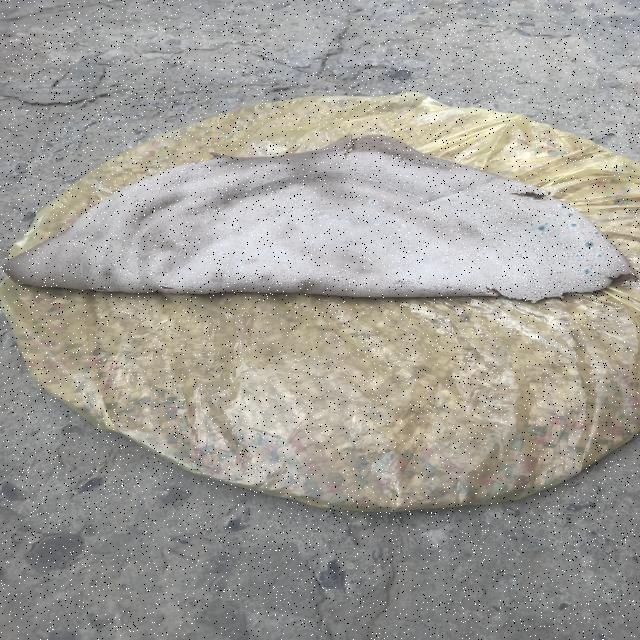injera_mold: (369, 199, 378, 206), (585, 242, 595, 248), (583, 268, 592, 274), (538, 225, 545, 231), (532, 197, 541, 201), (221, 252, 228, 256), (571, 223, 578, 227), (539, 188, 546, 192), (560, 205, 568, 208), (597, 254, 603, 258), (394, 156, 404, 158), (568, 213, 573, 217), (575, 255, 581, 258), (536, 193, 544, 195), (544, 222, 549, 225), (528, 184, 533, 187), (70, 243, 76, 245), (594, 232, 600, 234), (66, 243, 69, 245), (402, 163, 404, 166), (388, 156, 391, 158), (614, 248, 617, 250), (56, 245, 58, 247), (76, 244, 78, 246), (68, 240, 70, 241), (72, 240, 74, 241), (403, 158, 405, 159), (390, 159, 392, 160), (395, 162, 396, 164), (75, 246, 76, 247), (612, 250, 614, 250), (617, 252, 619, 252)
